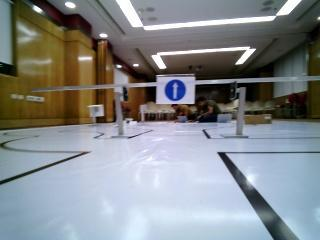straight: (154, 74, 197, 105)
